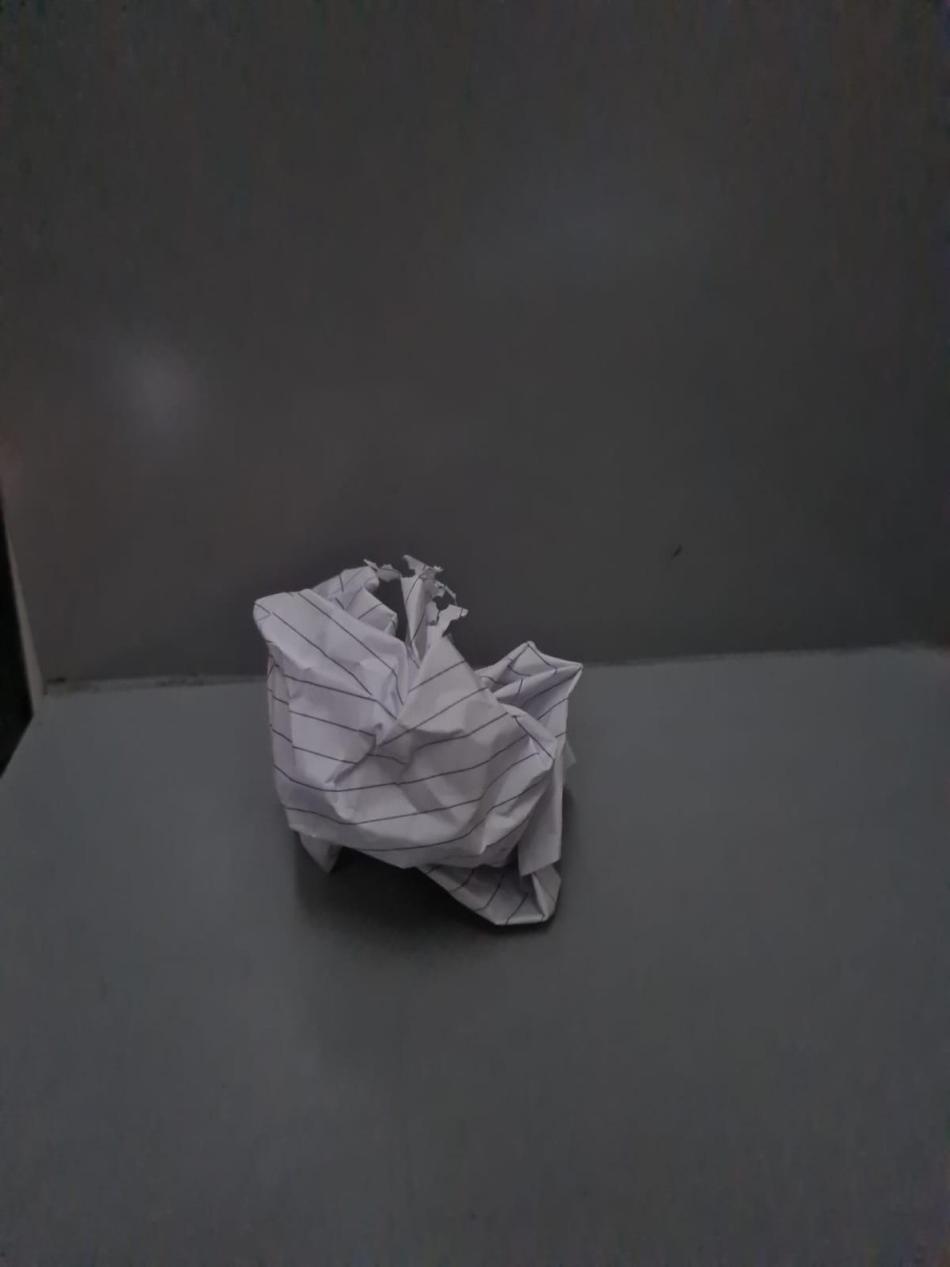paper: (244, 552, 599, 938)
